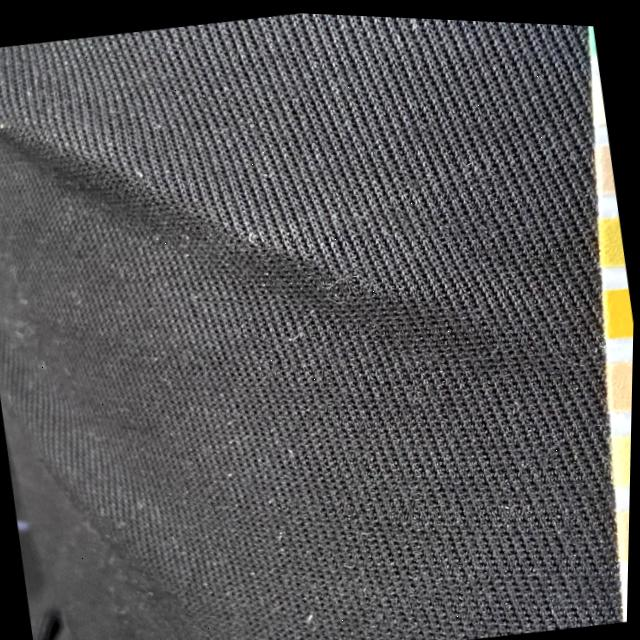Blood: (604, 282, 635, 333)
Ketone: (594, 139, 617, 188)
Protein: (611, 427, 633, 478)
SpGravity: (598, 212, 628, 262)
Urobilinogen: (618, 501, 632, 553)
pH: (606, 353, 634, 405)
